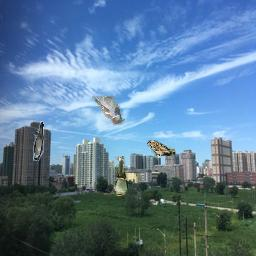Cuckoo: (112, 156, 128, 196)
Sparrow: (92, 96, 125, 125), (147, 140, 175, 156)
Swallow: (33, 121, 44, 161)
